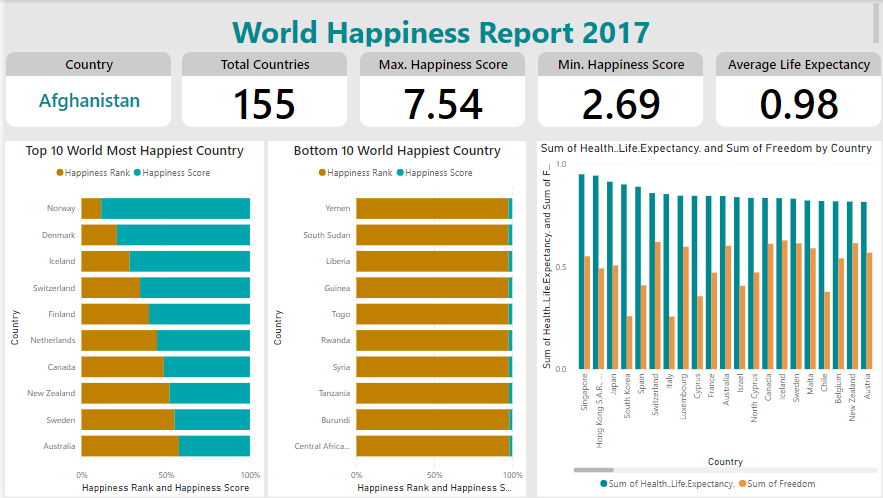

What the dashboard file says about the page in this screenshot:
{"tool":"powerbi","page":{"name":"Page 1","canvas":[1280,720],"ordinal":0},"visuals":[{"type":"textbox","box":[0,0,1260.9,72.5],"z":0},{"type":"hundredPercentStackedBarChart","title":"Top 10 World Most Happiest Country","fields":{"Category":["CountryRanks.Country"],"Y":["Sum(CountryRanks.Happiness.Rank)","Sum(HappinessData-2017.Happiness.Score)"]},"box":[0,202.6,372.4,510.9],"z":0,"group":"g1"},{"type":"hundredPercentStackedBarChart","title":"Bottom 10 World Happiest Country","fields":{"Category":["CountryRanks.Country"],"Y":["Sum(CountryRanks.Happiness.Rank)","Sum(HappinessData-2017.Happiness.Score)"]},"box":[378.1,202.6,371,510.9],"z":1000,"group":"g1"},{"type":"lineClusteredColumnComboChart","fields":{"Category":["HappinessData-2017.Country"],"Y":["Sum(HappinessData-2017.Health..Life.Expectancy.)","Sum(HappinessData-2017.Freedom)"]},"box":[764.9,202.6,495.2,510.9],"z":1000},{"type":"card","title":"Total Countries","fields":{"Values":["CountNonNull(HappinessData-2017.Country)"]},"box":[252.6,72.8,239.7,109.9],"z":2000,"group":"g2"},{"type":"group","id":"g1","title":"Group 1","box":[0,202.6,749.2,510.9],"z":2000},{"type":"group","id":"g2","title":"Group 2","box":[0,72.8,1260,109.9],"z":3000},{"type":"card","title":"Max. Happiness Score","fields":{"Values":["Max(HappinessData-2017.Happiness.Score)"]},"box":[509.4,72.8,239.7,109.9],"z":3000,"group":"g2"},{"type":"card","title":"Min. Happiness Score","fields":{"Values":["Min(HappinessData-2017.Happiness.Score)"]},"box":[764.9,72.8,239.7,109.9],"z":4000,"group":"g2"},{"type":"card","title":"Country","fields":{"Values":["Min(CountryRanks.Country)"]},"box":[0,72.8,239.7,109.9],"z":5000,"group":"g2"},{"type":"card","title":"Average Life Expectancy","fields":{"Values":["HappinessData-2017.Average GDP.per.Capita"]},"box":[1020.3,72.8,239.7,109.9],"z":7000,"group":"g2"}]}

Visuals, with their boxes in screenshot pixels (x1, y1, x2, y2), scaled from the page's 1280x720 canvas onto the 883x498 screenshot:
textbox: [x1=0, y1=0, x2=870, y2=50]
"Top 10 World Most Happiest Country" hundredPercentStackedBarChart: [x1=0, y1=140, x2=257, y2=494]
"Bottom 10 World Happiest Country" hundredPercentStackedBarChart: [x1=261, y1=140, x2=517, y2=494]
lineClusteredColumnComboChart - HappinessData-2017.Country x Sum(HappinessData-2017.Health..Life.Expectancy.): [x1=528, y1=140, x2=869, y2=494]
"Total Countries" card: [x1=174, y1=50, x2=340, y2=126]
"Group 1" group: [x1=0, y1=140, x2=517, y2=494]
"Group 2" group: [x1=0, y1=50, x2=869, y2=126]
"Max. Happiness Score" card: [x1=351, y1=50, x2=517, y2=126]
"Min. Happiness Score" card: [x1=528, y1=50, x2=693, y2=126]
"Country" card: [x1=0, y1=50, x2=165, y2=126]
"Average Life Expectancy" card: [x1=704, y1=50, x2=869, y2=126]
